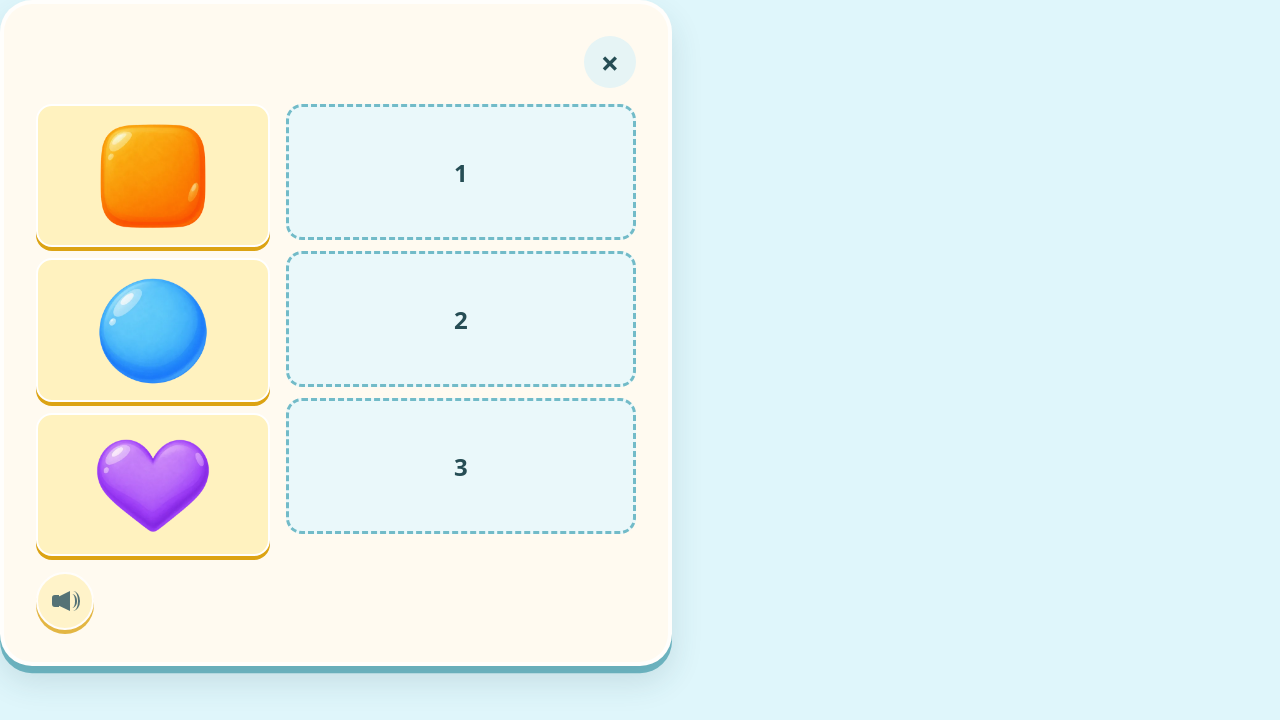
AssemblyActivityScreen › conclui quando peças ocupam os lugares declarados
Click the button named "coração roxo".
click(153, 484)  # box [36, 413, 270, 556]
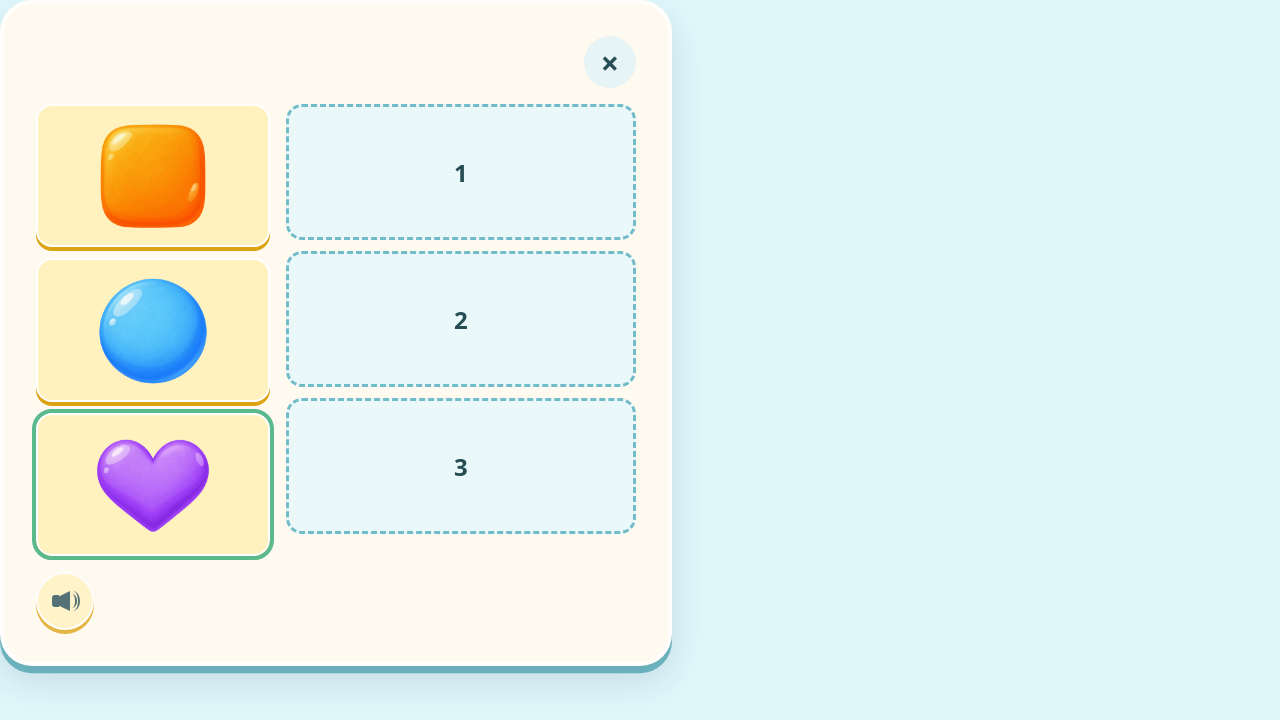
Click the button "1".
click(461, 172)  # box [286, 104, 636, 240]
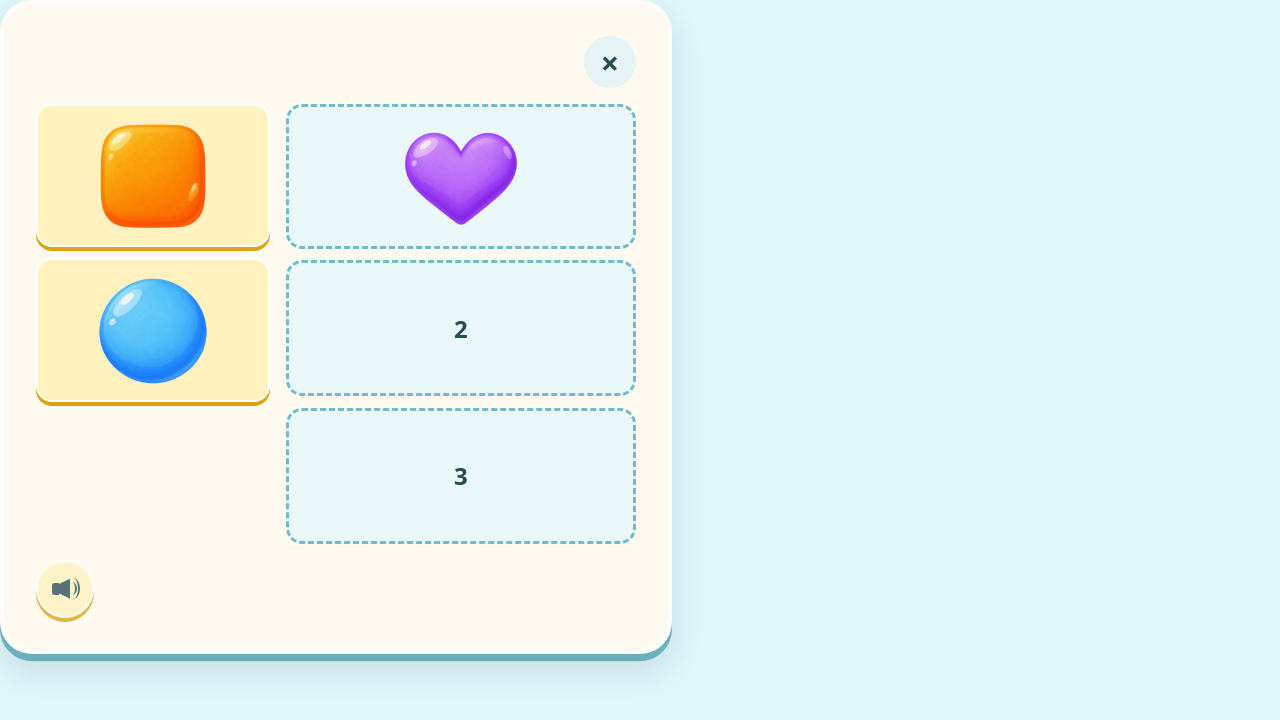
Click the button named "círculo azul".
click(153, 330)  # box [36, 258, 270, 402]
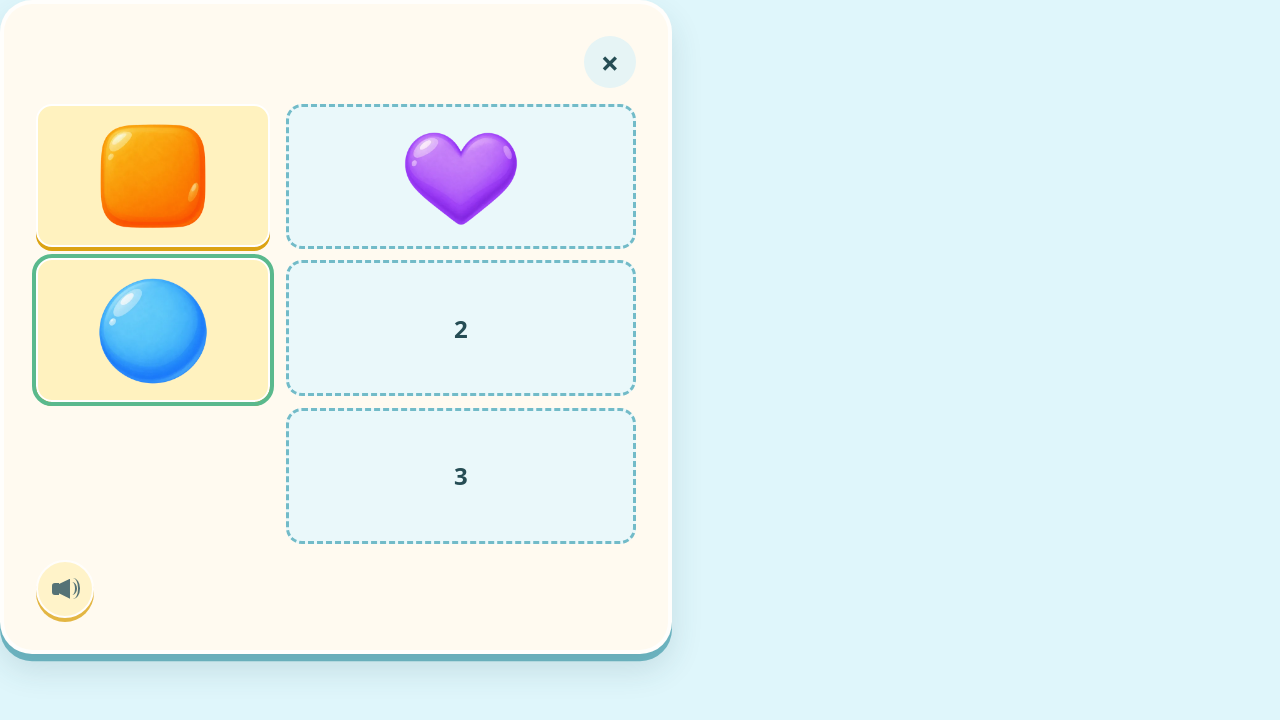
Click the button "2".
click(461, 328)  # box [286, 260, 636, 396]
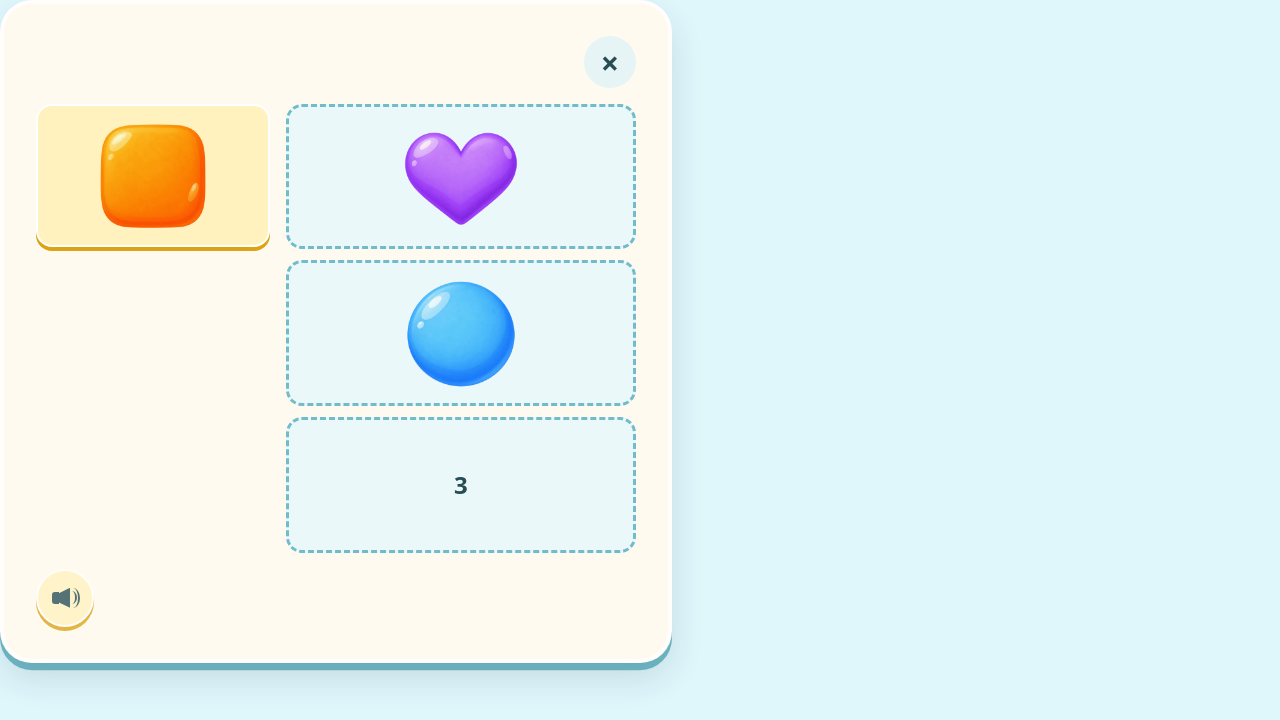
Click the button named "quadrado laranja".
click(153, 176)  # box [36, 104, 270, 247]
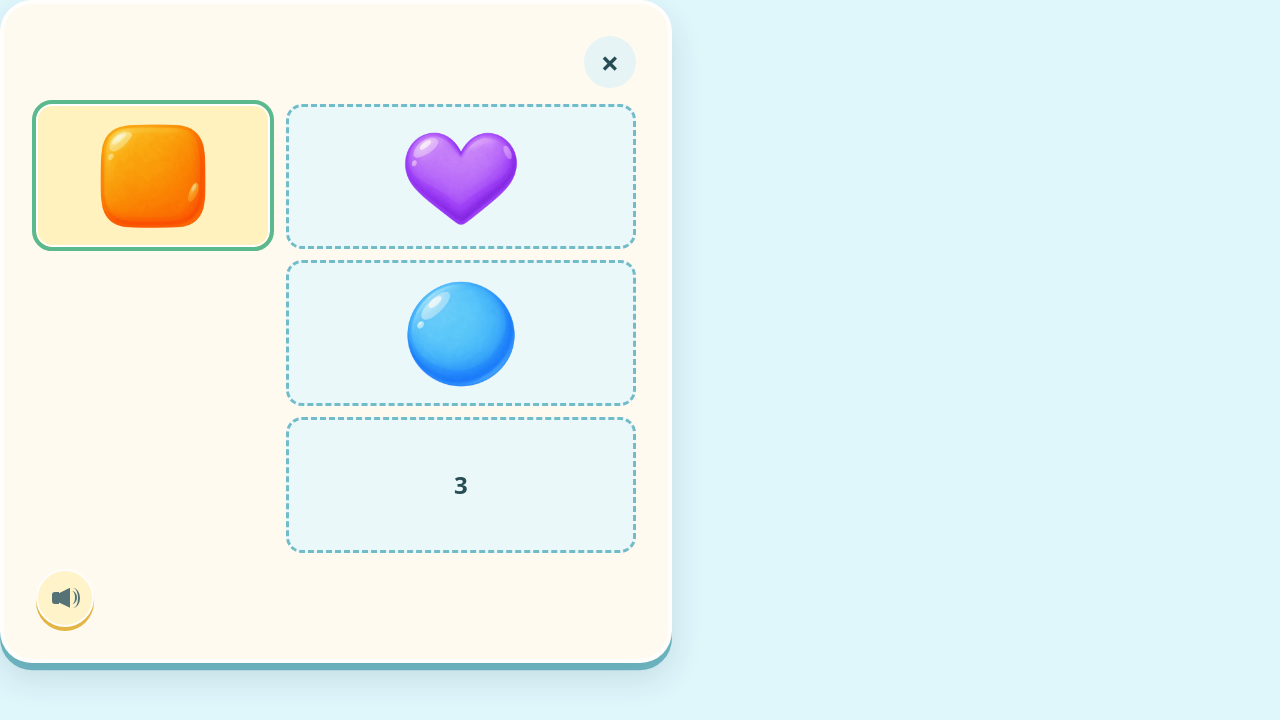
Click the button "3".
click(461, 485)  # box [286, 417, 636, 553]
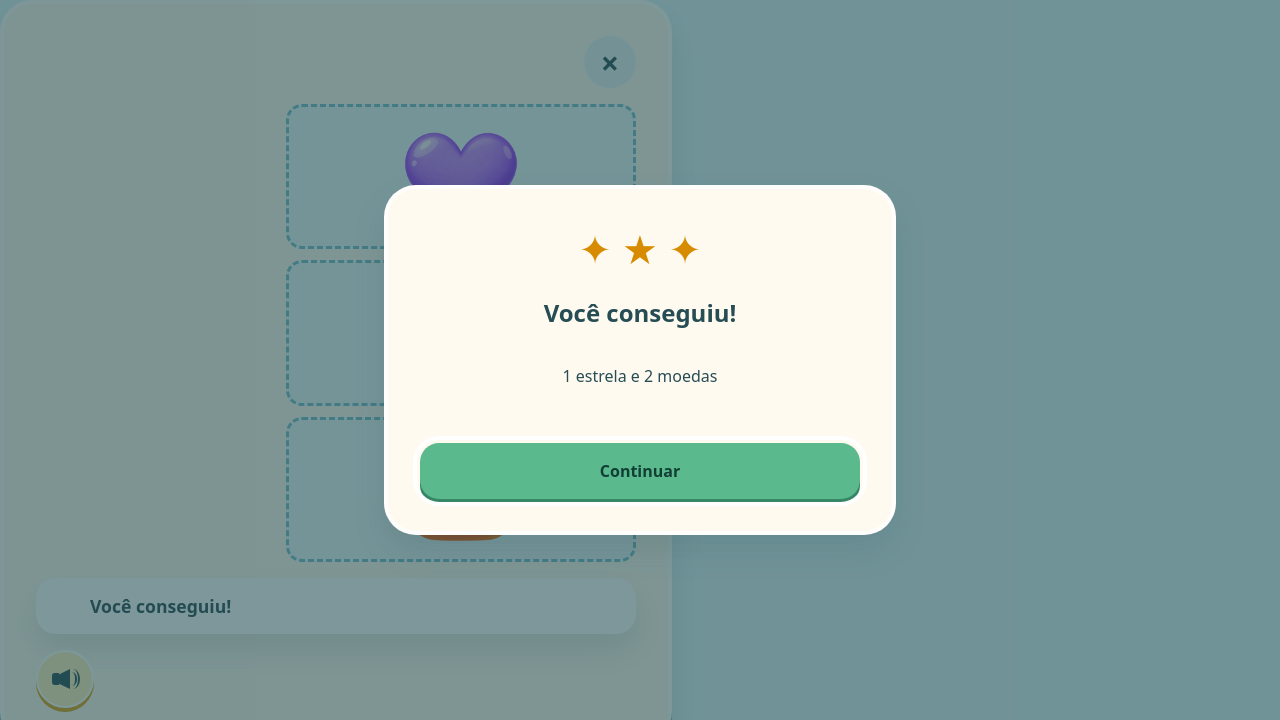
Expected: the heading "Você conseguiu!" is shown, [544, 296, 736, 329]
